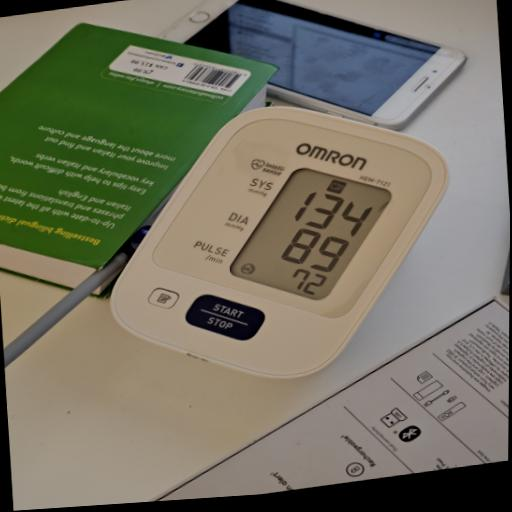blood pressure monitor: (96, 80, 464, 405)
